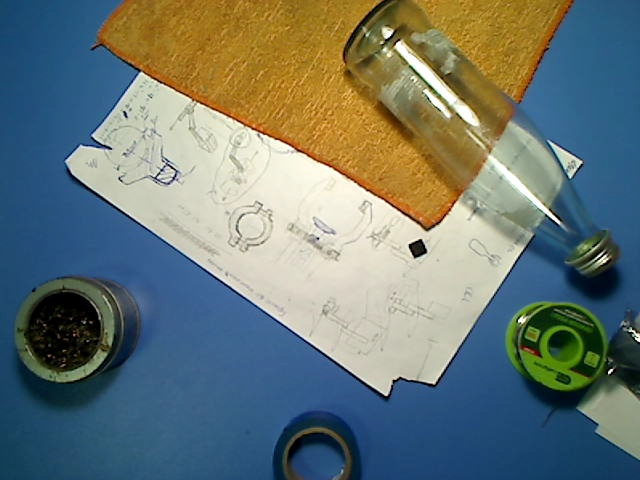bottle: (342, 1, 624, 278)
